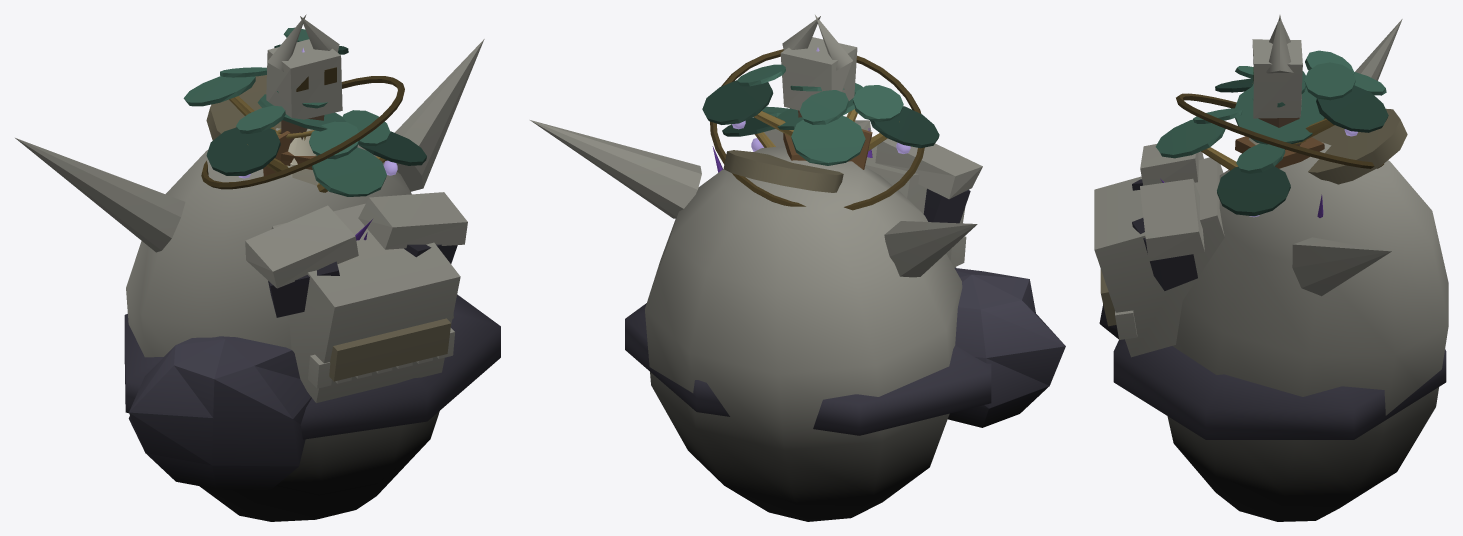
Rendered from props_gokcark_lite.glb.
3 renders of one model, left to right at view 1: azimuth 30°, elevation 25°; view 2: azimuth 150°, elevation 25°; view 3: azimuth 270°, elevation 25°, orthographic. The views are drawn at different scales.
Visible parts, largest first — view 1: kafatasi, agac, totem, tuzsutun; view 2: kafatasi, agac, totem; view 3: kafatasi, agac, totem.
Boxes of the visible parts, box(x1,y1,x2,y2) form: kafatasi: box(15, 39, 500, 521); agac: box(183, 27, 426, 196); totem: box(263, 14, 342, 176); tuzsutun: box(287, 129, 318, 185); kafatasi: box(530, 120, 1065, 521); agac: box(702, 47, 939, 210); totem: box(780, 15, 872, 169); kafatasi: box(1094, 19, 1448, 521); agac: box(1155, 50, 1388, 217); totem: box(1235, 15, 1324, 168).
Size of the model in its own units: 229 by 237 by 154.
